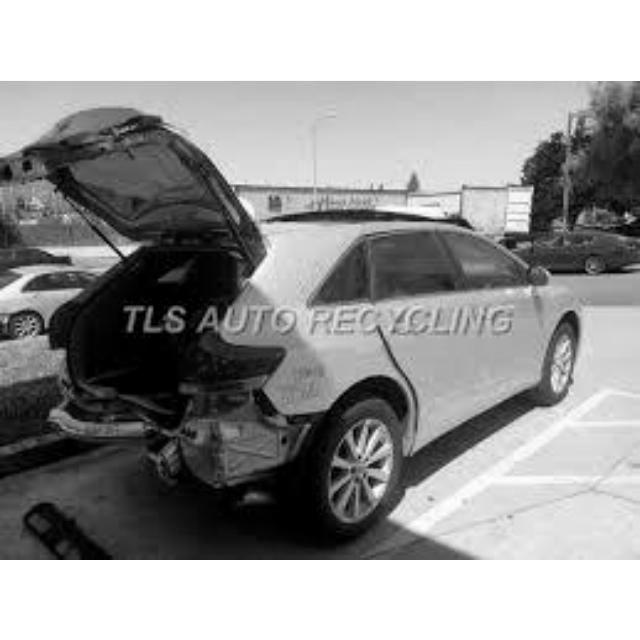rear-bumper-dent: (55, 384, 262, 470)
